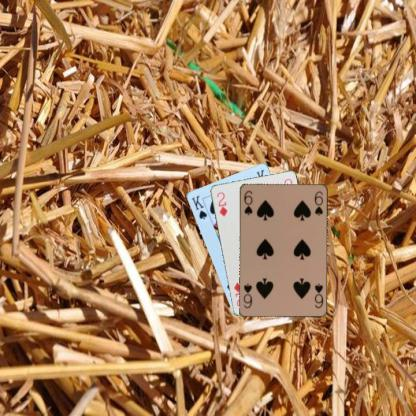2d: (214, 189, 229, 217)
6s: (242, 188, 254, 216), (312, 281, 324, 309)
Ks: (188, 193, 208, 221)
